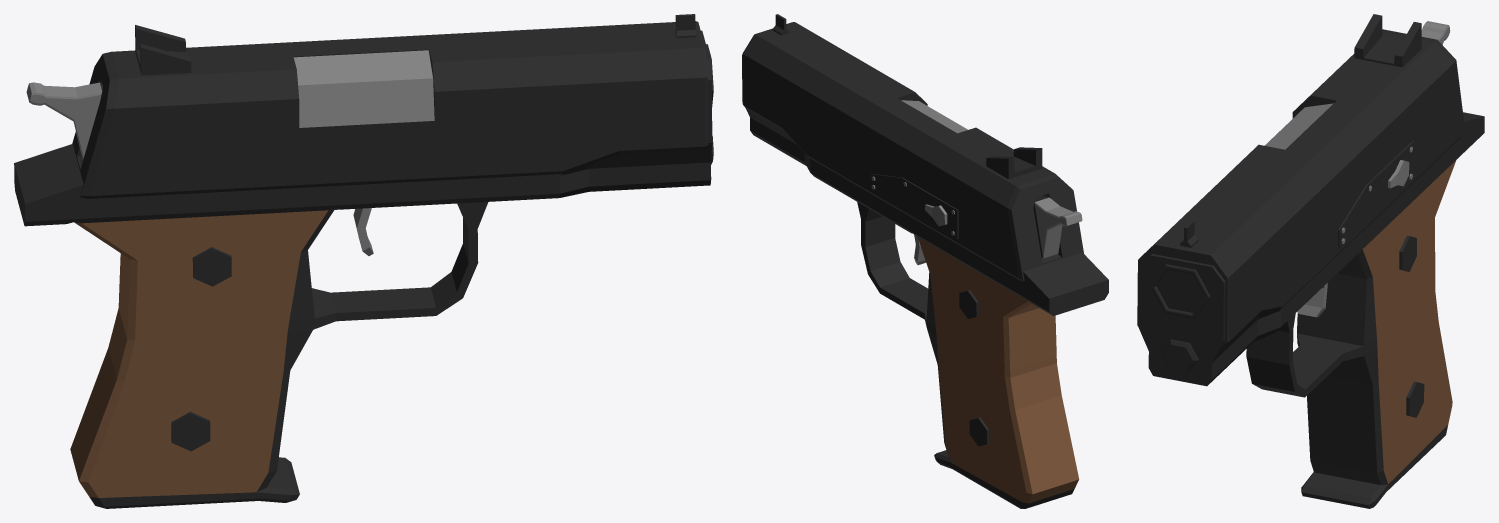
File: Gun2.fbx
The picture shows the model from 3 angles, left to right: view 1: azimuth 30°, elevation 25°; view 2: azimuth 150°, elevation 25°; view 3: azimuth 270°, elevation 25°; orthographic projection. The views are drawn at different scales.
Visible parts, largest first — view 1: Pistol.001; view 2: Pistol.001; view 3: Pistol.001.
Boxes of the visible parts, x1,y1,x2,y2 form: Pistol.001: [14, 14, 713, 508]; Pistol.001: [742, 14, 1108, 508]; Pistol.001: [1137, 14, 1484, 508].
Size of the model in its own units: 41.64 by 31.15 by 22.76.
